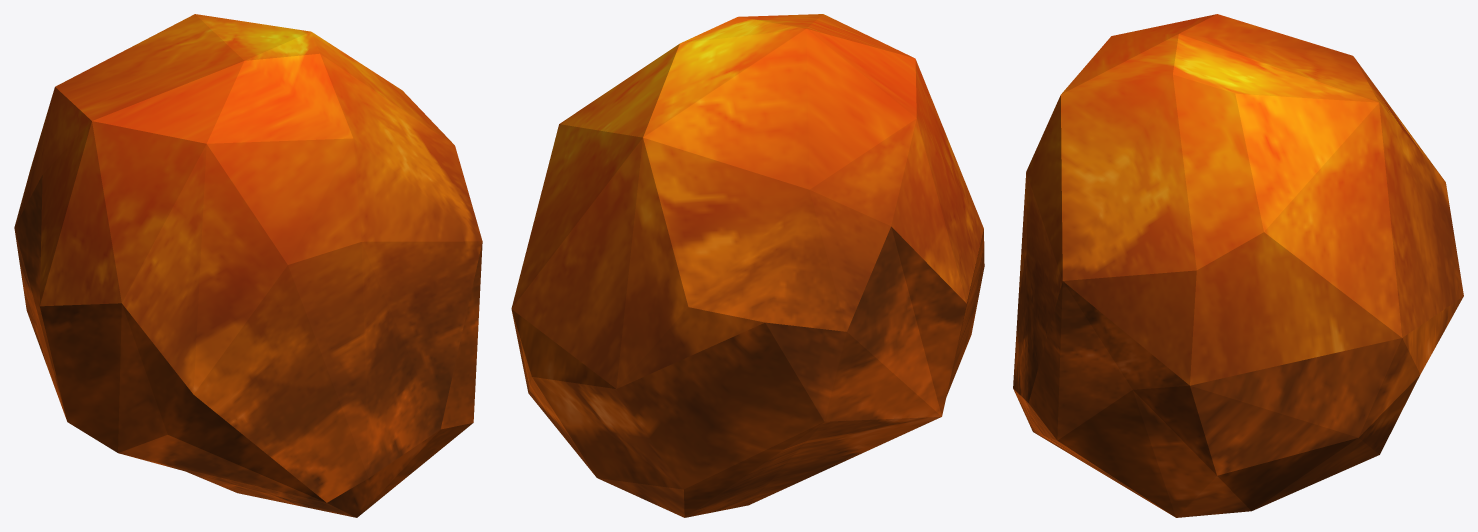
File: shitou04.FBX
3 renders of one model, left to right at view 1: azimuth 30°, elevation 25°; view 2: azimuth 150°, elevation 25°; view 3: azimuth 270°, elevation 25°, orthographic. The views are drawn at different scales.
Visible parts, largest first — view 1: Plane001; view 2: Plane001; view 3: Plane001.
Boxes of the visible parts, x1=… form: Plane001: x1=14, y1=14, x2=482, y2=517; Plane001: x1=511, y1=14, x2=984, y2=517; Plane001: x1=1013, y1=14, x2=1463, y2=517.
Bounding box in the file's own units: 11.44 × 12.11 × 11.44.
1 material, 1 textured.
